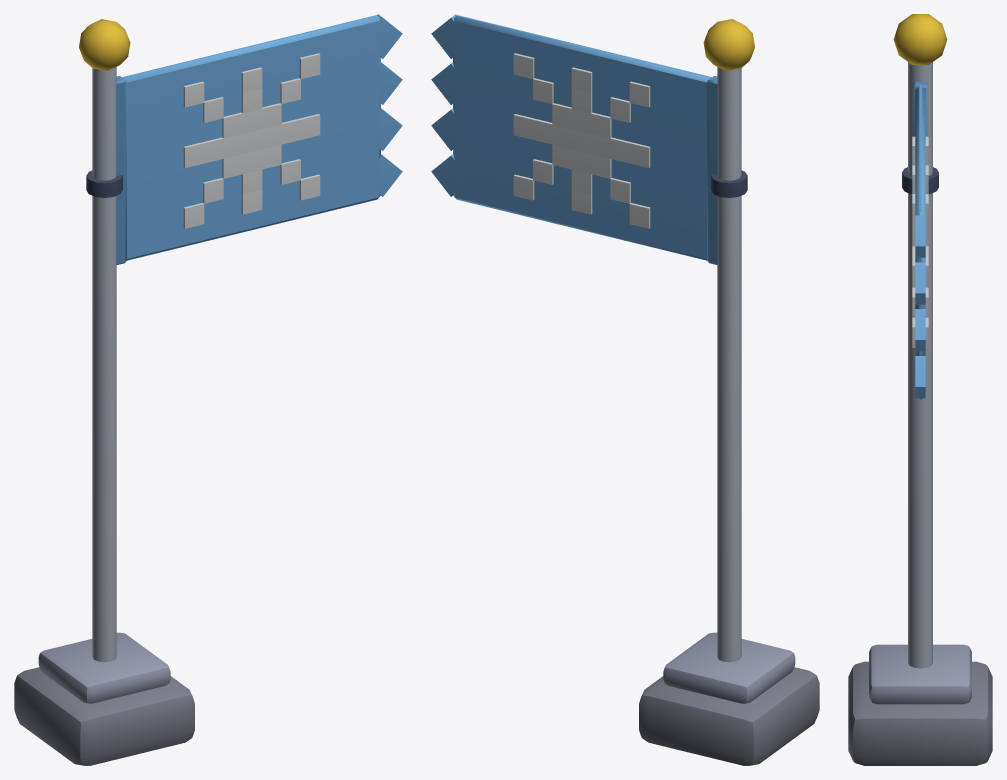
The model's file is lo_flag_flocke.glb.
The picture shows the model from 3 angles, left to right: view 1: azimuth 30°, elevation 25°; view 2: azimuth 150°, elevation 25°; view 3: azimuth 270°, elevation 25°; orthographic projection.
Visible parts, largest first — view 1: sway_cloth, body; view 2: sway_cloth, body; view 3: body, sway_cloth.
Part boxes in pixels (box(x1,y1,x2,y2)): sway_cloth: box(116, 14, 402, 264); body: box(14, 19, 194, 765); sway_cloth: box(431, 14, 717, 264); body: box(639, 19, 819, 765); body: box(848, 14, 992, 765); sway_cloth: box(912, 81, 928, 399).
Size of the model in its own units: 2.03 by 3.88 by 0.7.
